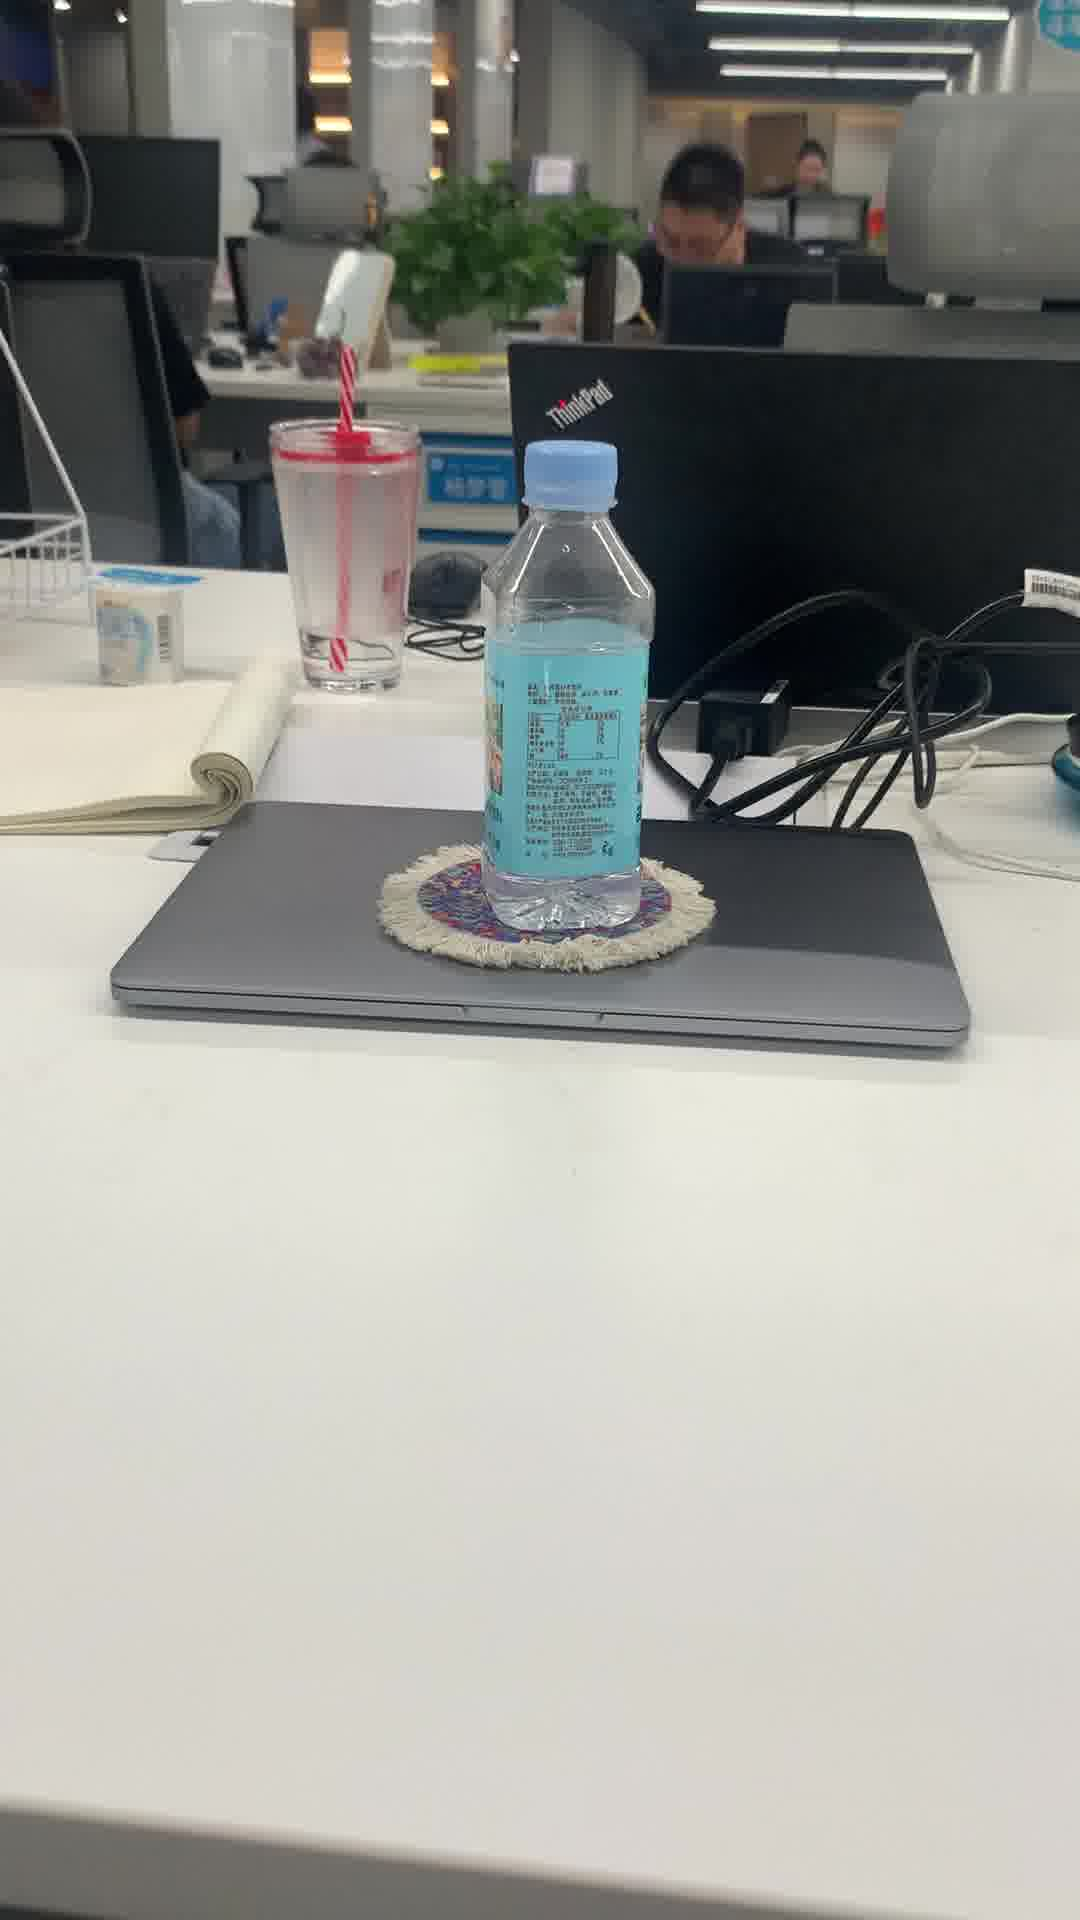水瓶: (467, 434, 665, 934)
